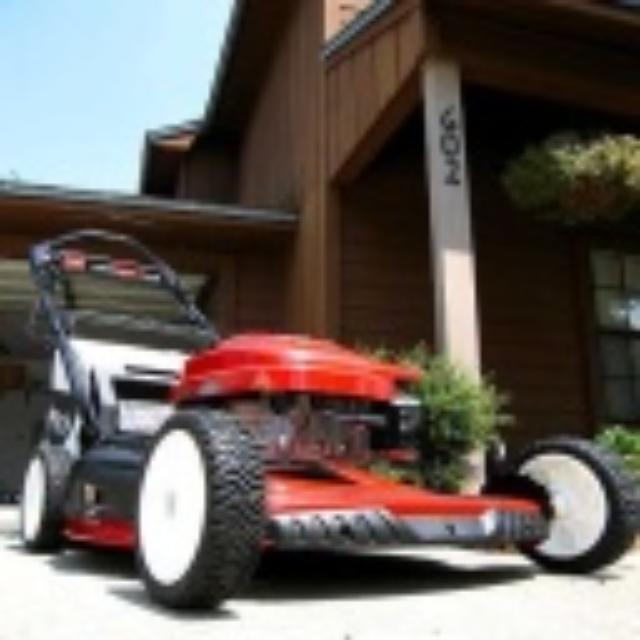Rotary-Mower: (10, 220, 634, 610)
